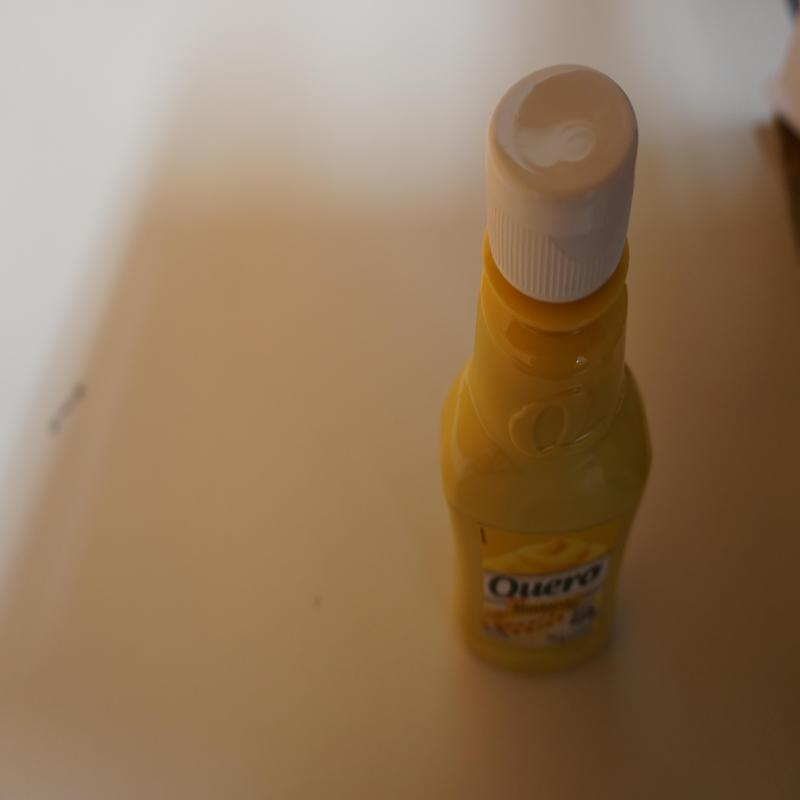Mustard: (438, 68, 652, 680)
